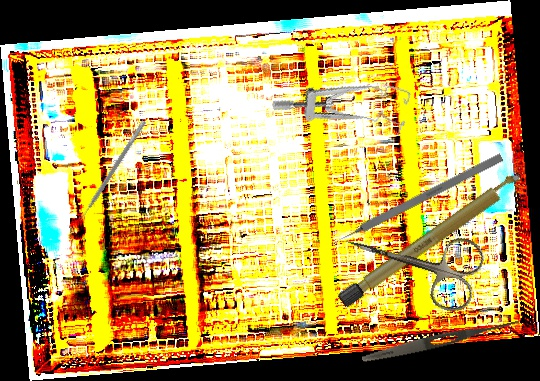Dressing Forceps: (360, 313, 521, 367)
Hook Surgical: (329, 153, 504, 248)
Iris Scissors: (334, 203, 489, 318)
Scalpel Handle: (335, 167, 529, 310)
Spatula Surgical: (75, 117, 147, 223)
Speculum: (270, 55, 415, 148)
